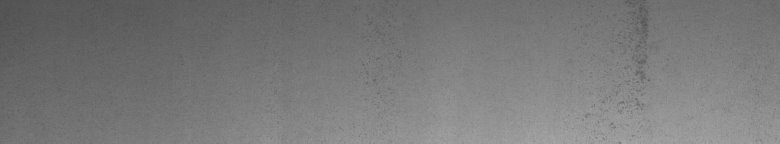ib: (582, 18, 655, 129)
